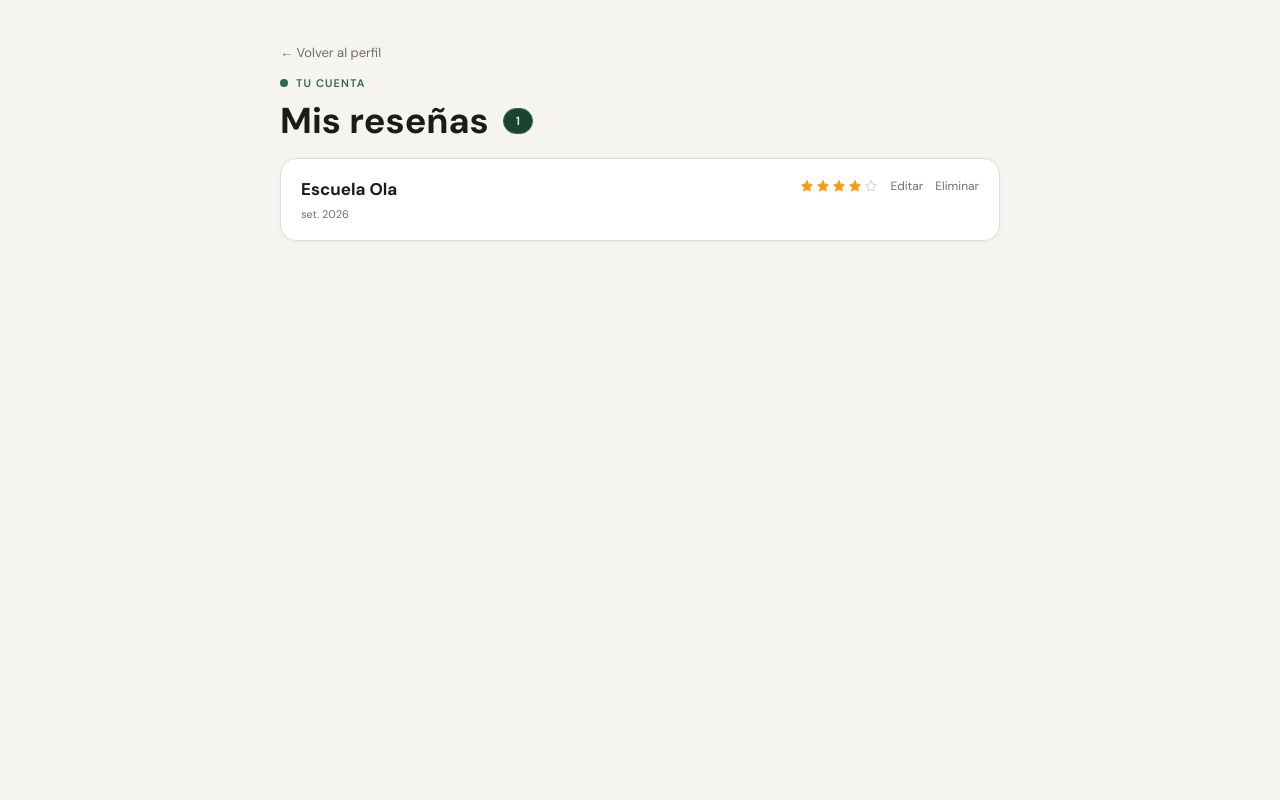
Test: Mis reseñas › editar y borrar van a /reviews
Click the button "Editar": (907, 186) [890, 177, 923, 195]
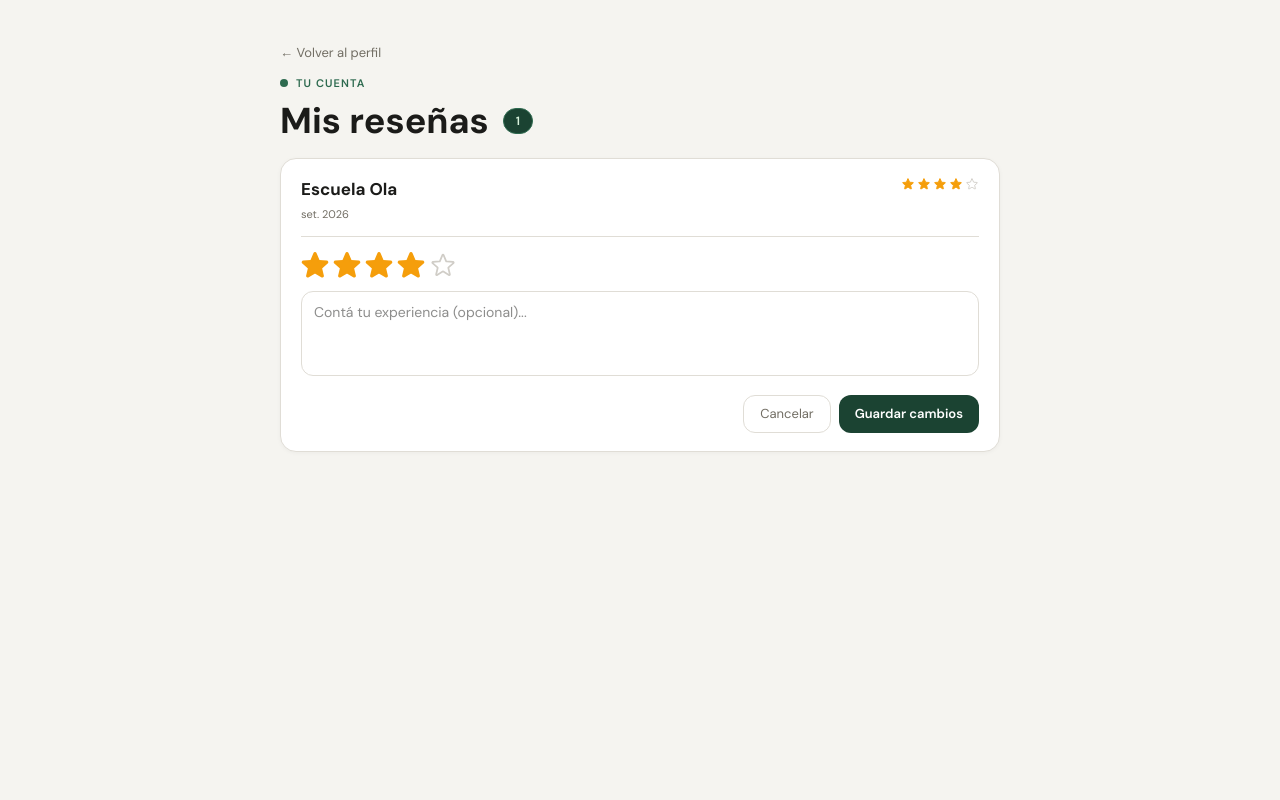
Click the button "Guardar cambios": (909, 414) [839, 395, 979, 433]
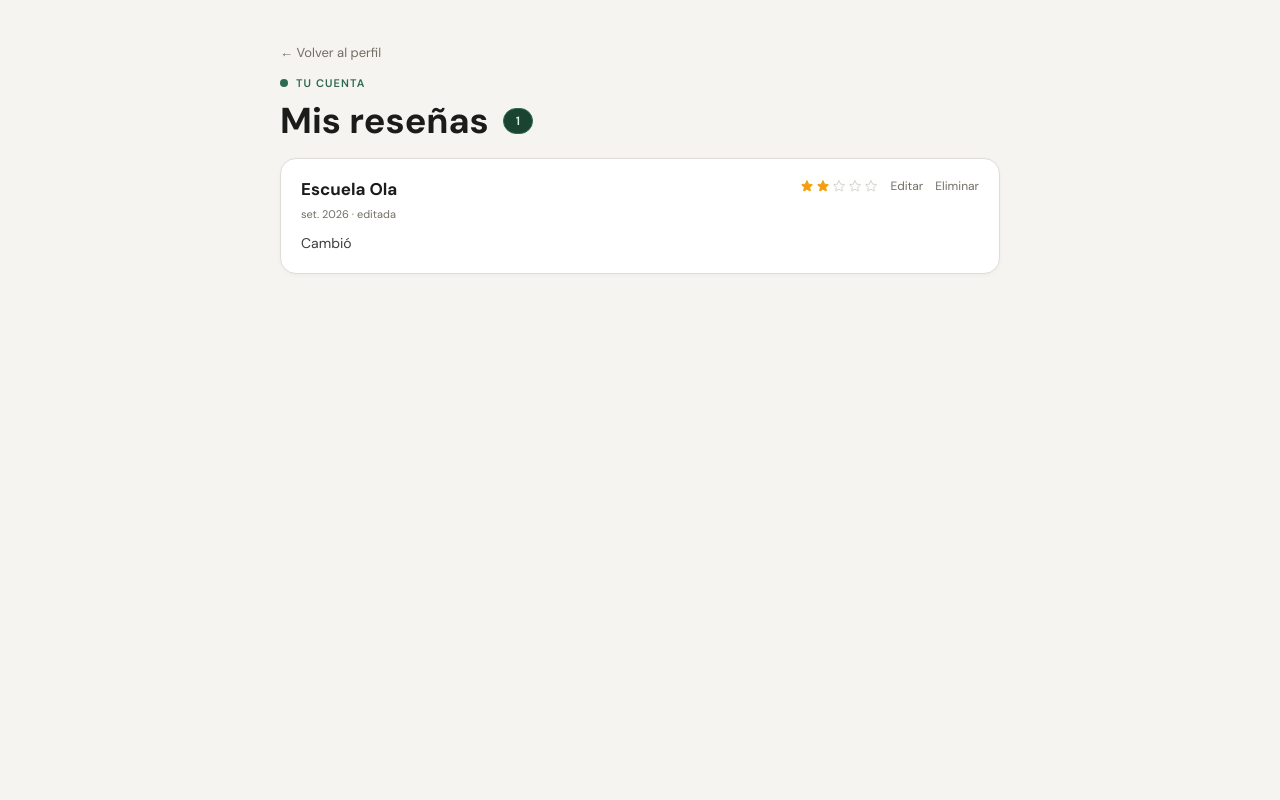
Expected: the text "Cambió" is shown, [301, 234, 352, 252]
Click the button "Eliminar": (957, 186) [935, 177, 979, 195]
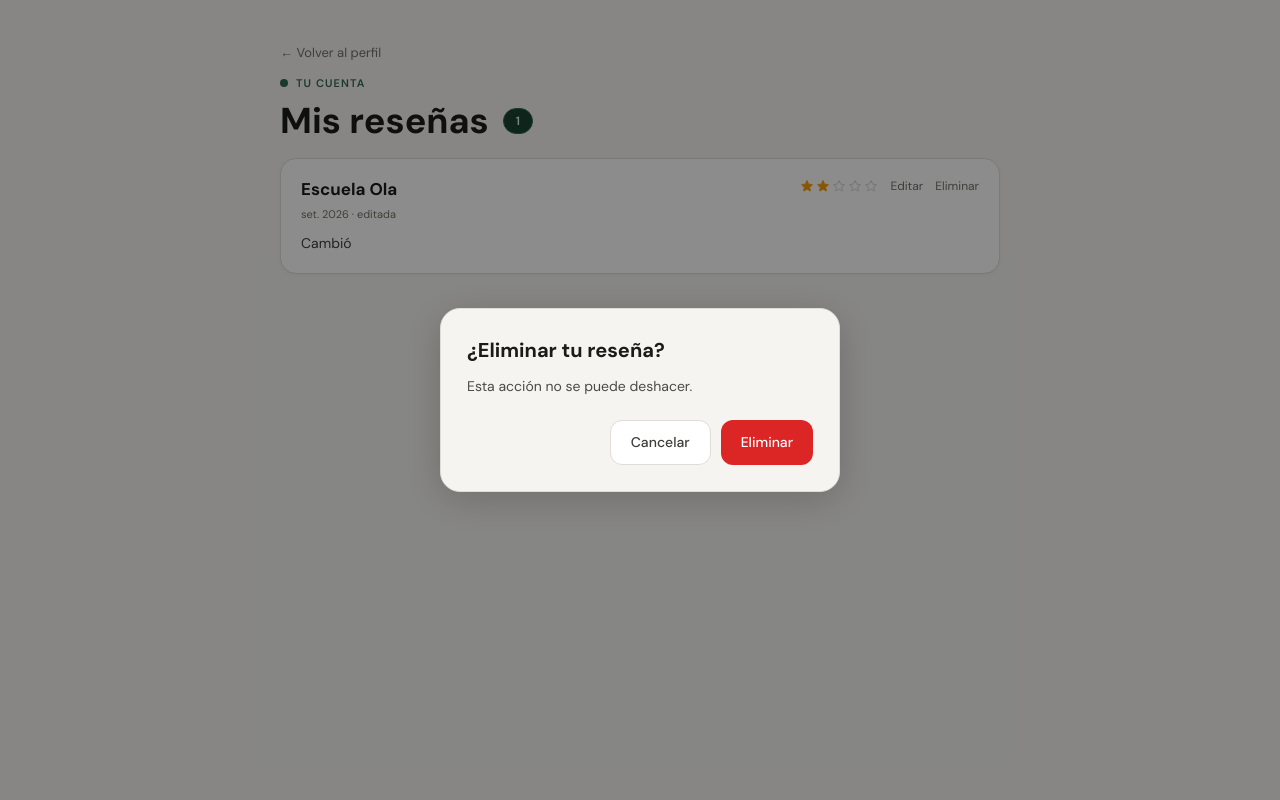
Note: El "Eliminar" del modal de confirmación es el último.
Click the button "Eliminar": (767, 442) [721, 420, 813, 465]
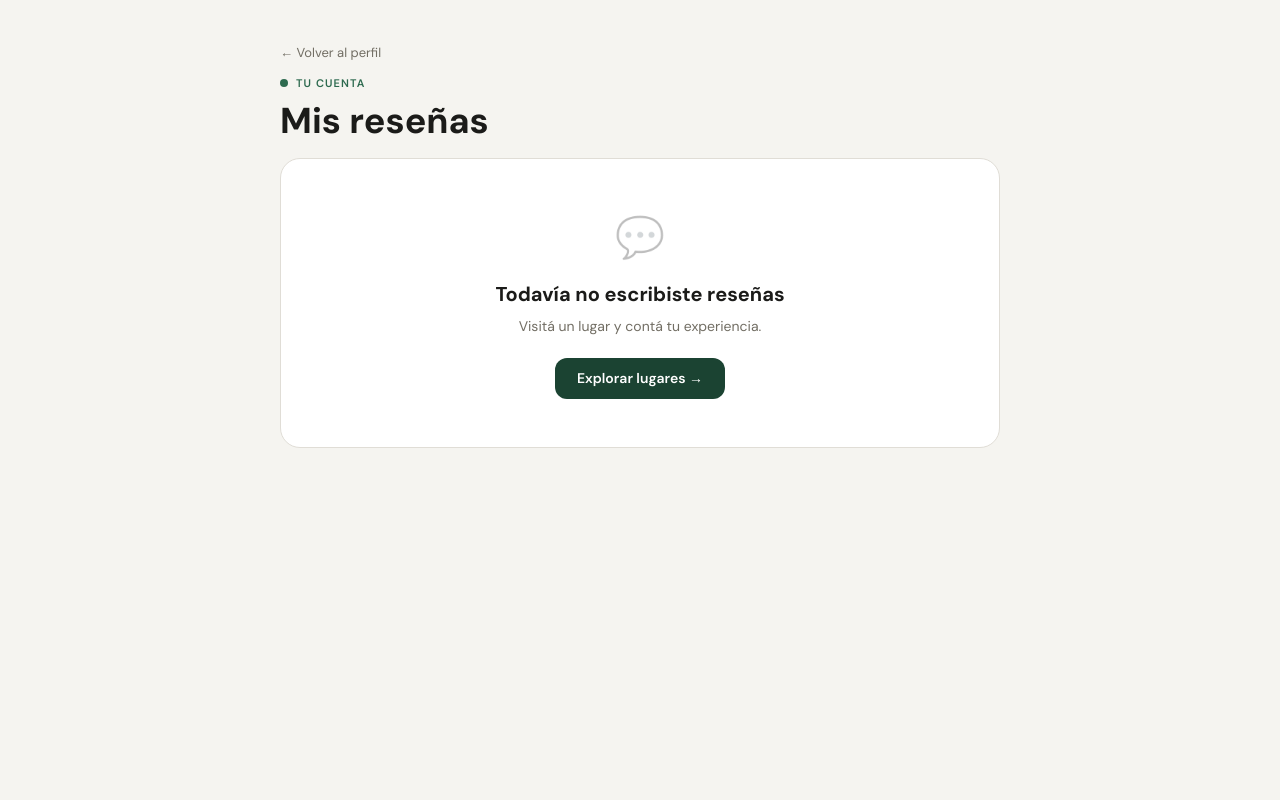
Expected: the text "Todavía no escribiste reseñas" is shown, [495, 281, 784, 307]
